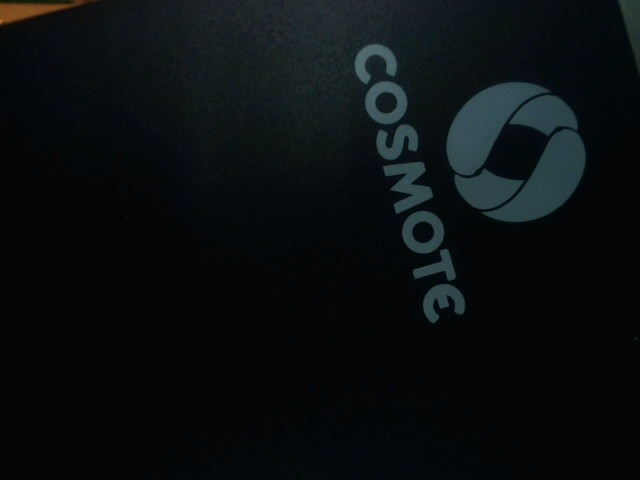AU_COSMOTE: (340, 34, 605, 339)
